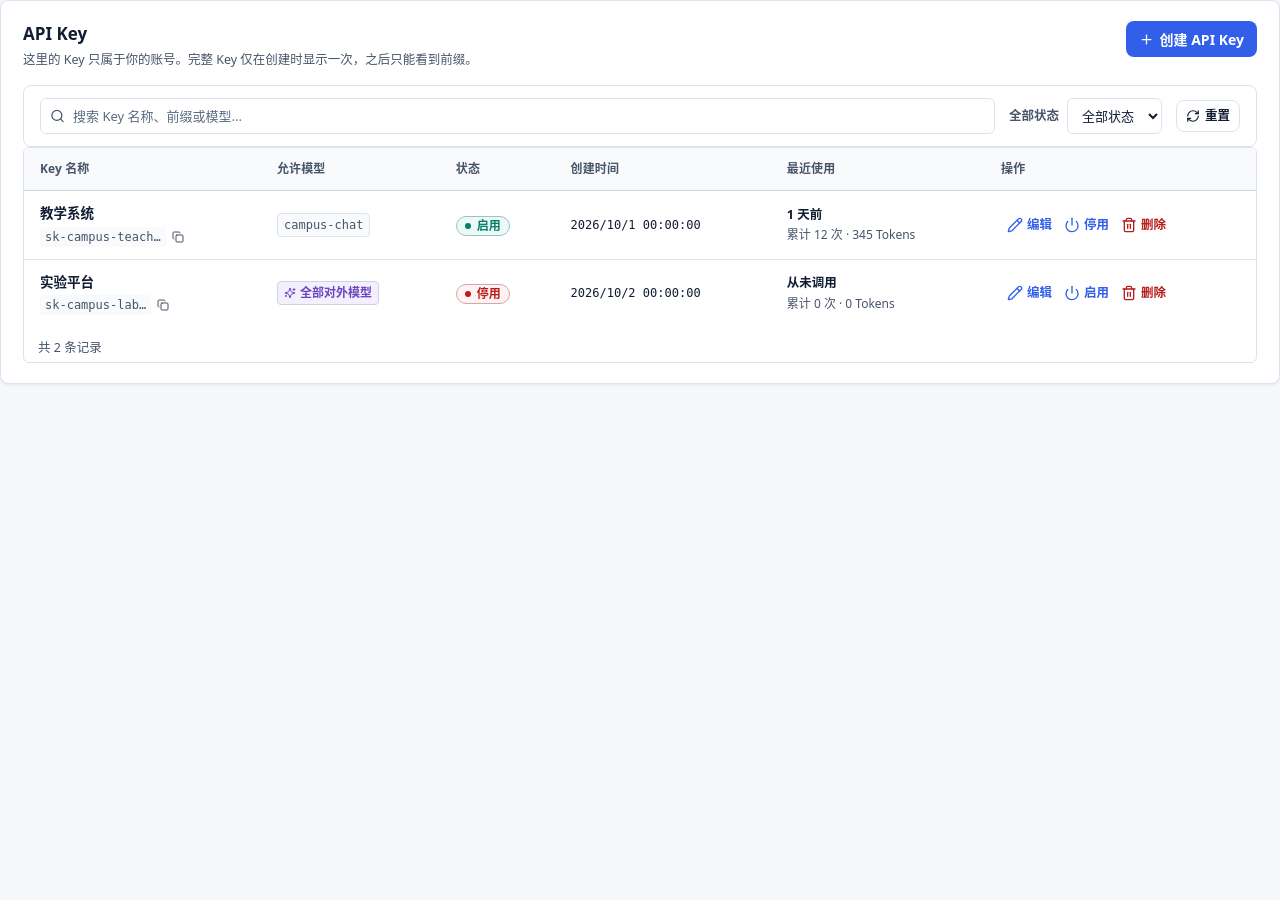
Test: personal console key copy feedback › reports a refused prefix copy instead of staying silent
expect the text "教学系统" is shown: met, box [40,204,94,222]
Click the button named "复制 Key 前缀" next to "sk-campus-teach": (178, 236) [170,228,186,244]
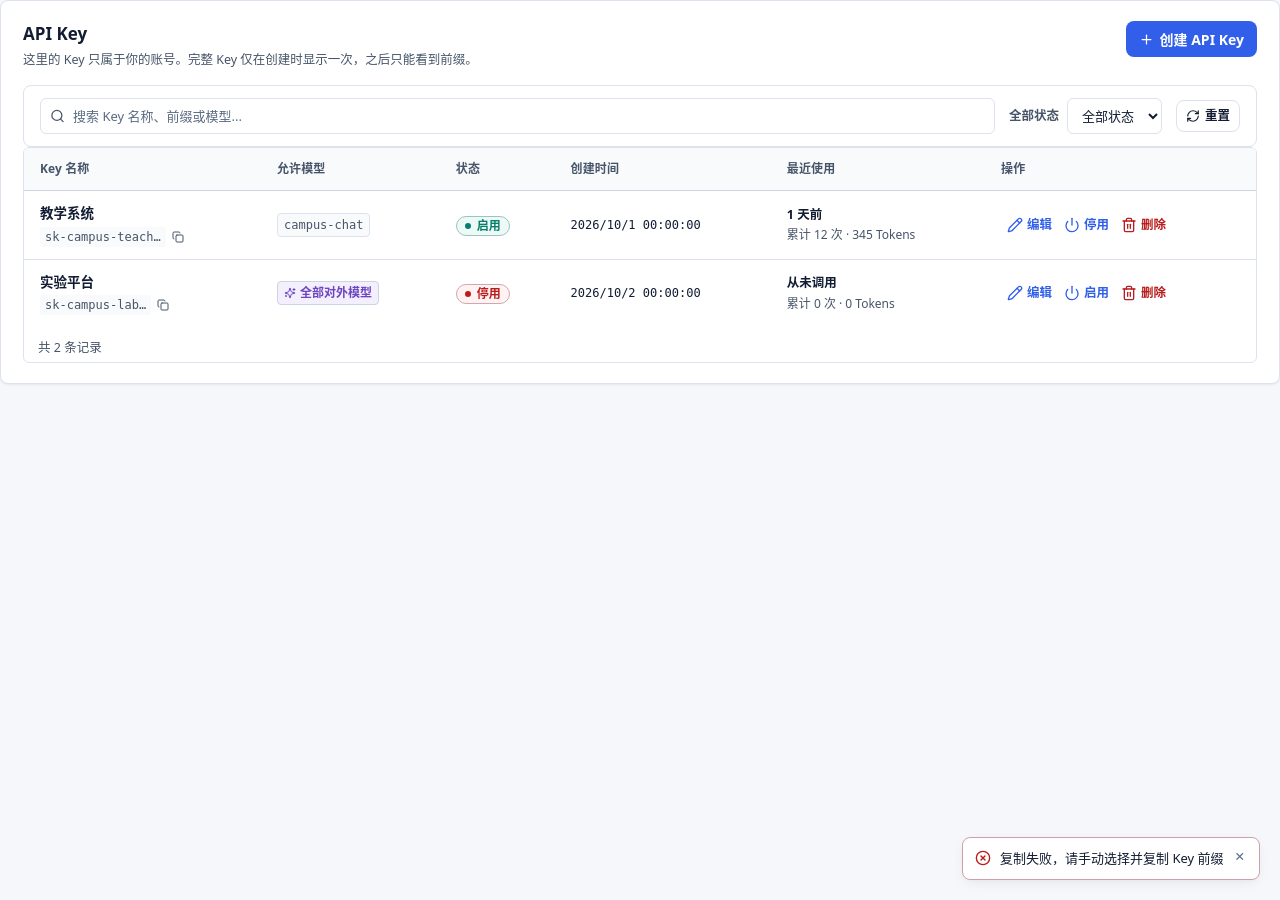
expect the text "复制失败，请手动选择并复制 Key 前缀" is shown: met, box [1000,848,1224,868]
